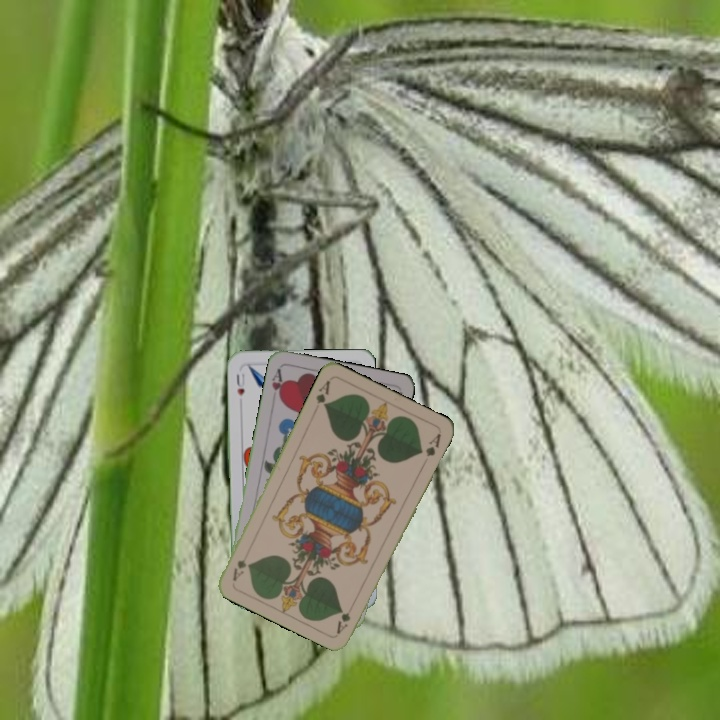GA: (310, 376, 333, 414), (333, 608, 353, 636)
HA: (268, 364, 287, 404)
HU: (233, 369, 247, 399)
